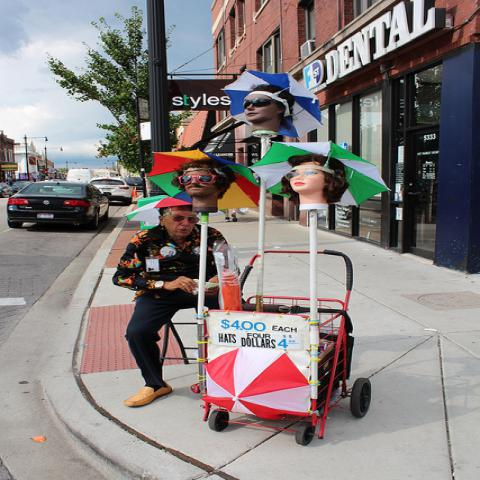car: (8, 182, 112, 228), (88, 176, 133, 206), (124, 177, 144, 189)
